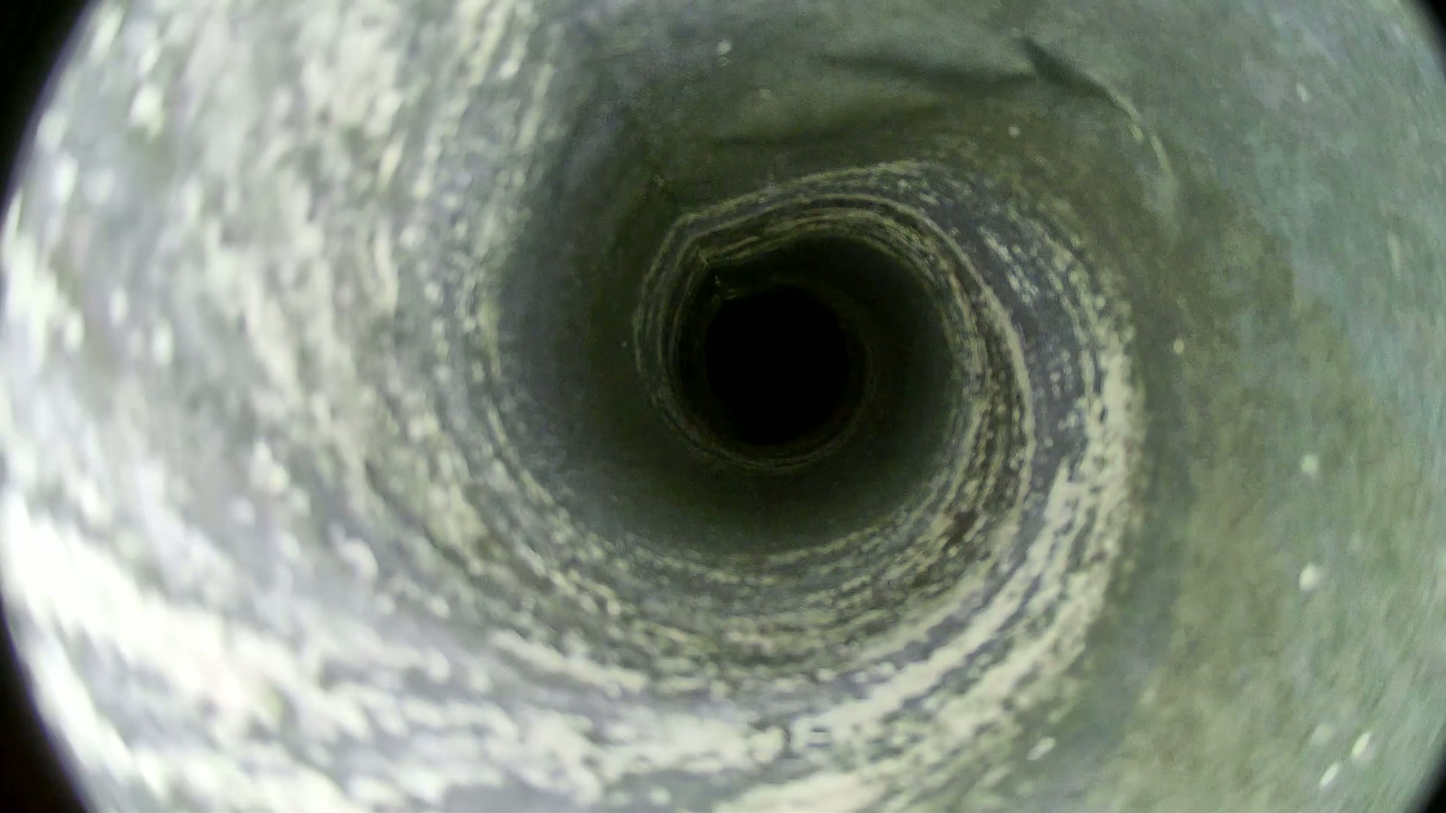hole: (706, 294, 846, 441)
